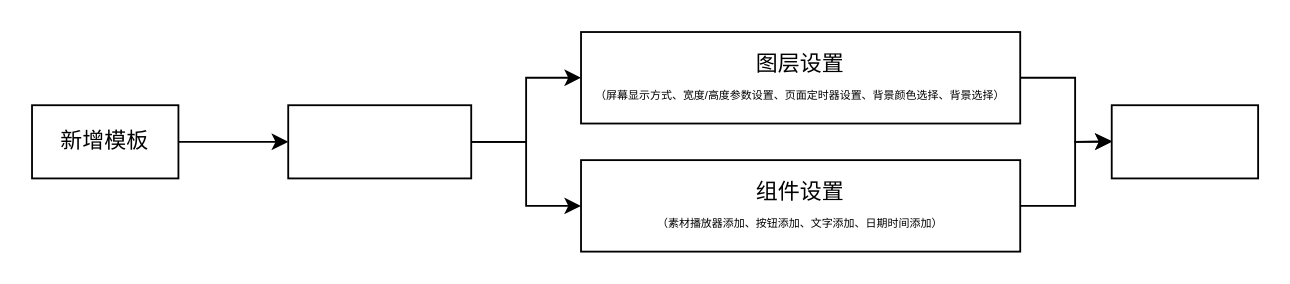
This 1290x284 diagram has some shape labels left out. Here are the shapes that lost their labels. From the top down, the box of each, then its label:
(286, 103, 471, 178): 模板信息设置
(1110, 103, 1258, 178): 保存 （填写模板名称、模板描述）
